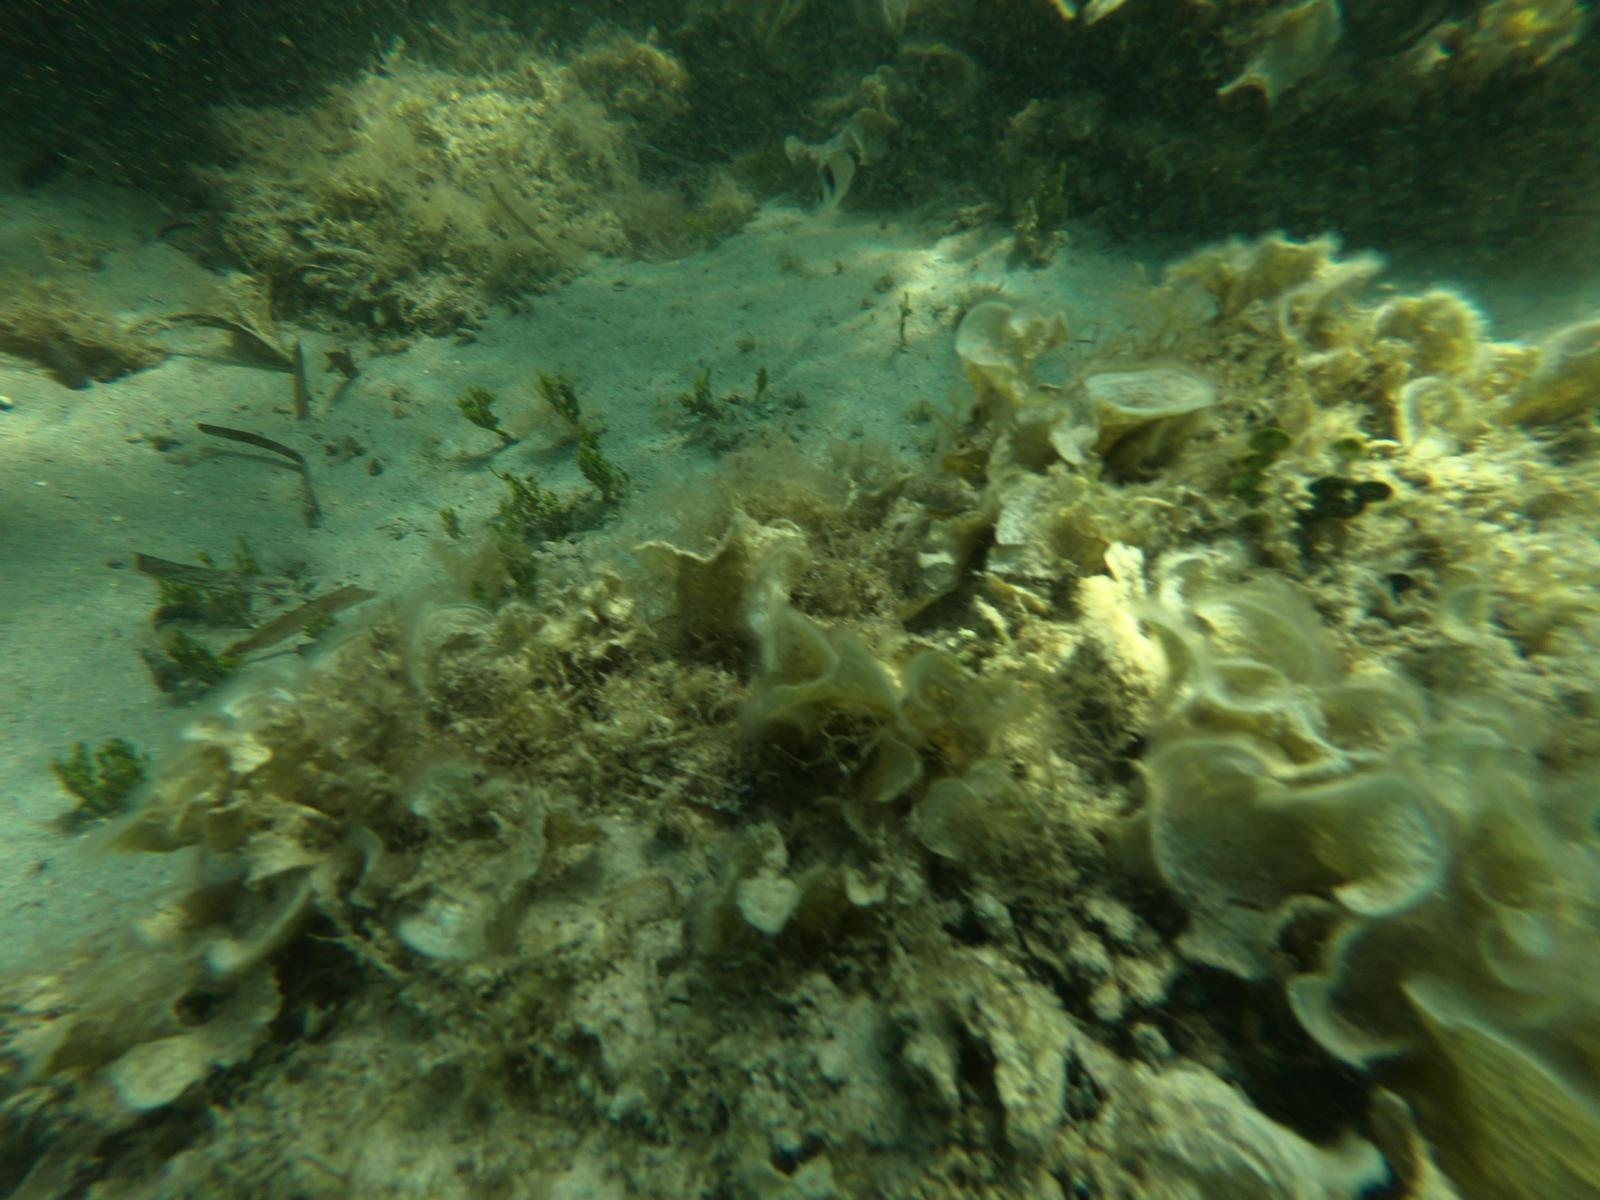halimeda: (52, 737, 152, 816), (159, 553, 265, 621), (163, 628, 233, 693), (459, 378, 511, 439), (535, 369, 585, 434), (504, 466, 552, 524), (577, 442, 615, 498)
